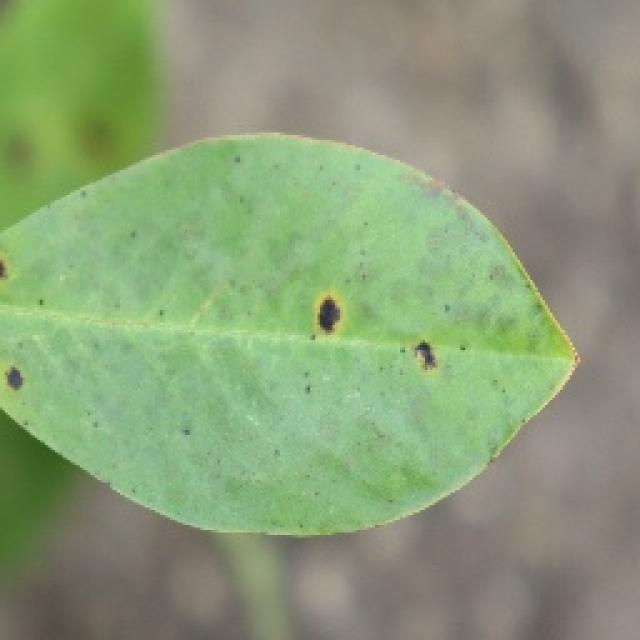Early_leaf_spot: (0, 342, 43, 414), (0, 237, 30, 302)
